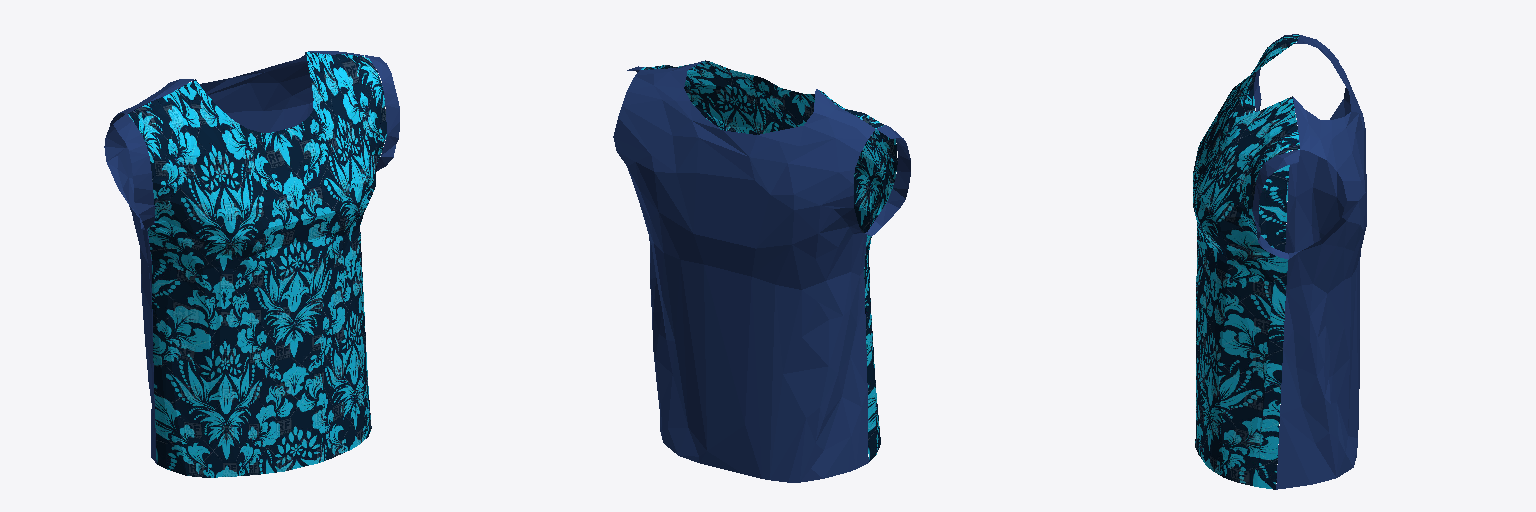
3 renders of one model, left to right at view 1: azimuth 30°, elevation 25°; view 2: azimuth 150°, elevation 25°; view 3: azimuth 270°, elevation 25°, orthographic.
Visible parts, largest first — view 1: T_shirt.005; view 2: T_shirt.005; view 3: T_shirt.005.
Boxes of the visible parts, x1=… form: T_shirt.005: x1=104, y1=51, x2=399, y2=477; T_shirt.005: x1=613, y1=60, x2=910, y2=482; T_shirt.005: x1=1193, y1=34, x2=1366, y2=489.
Bounding box in the file's own units: 0.2935 × 0.3892 × 0.1639.
Materials: 2 (1 with a texture image).